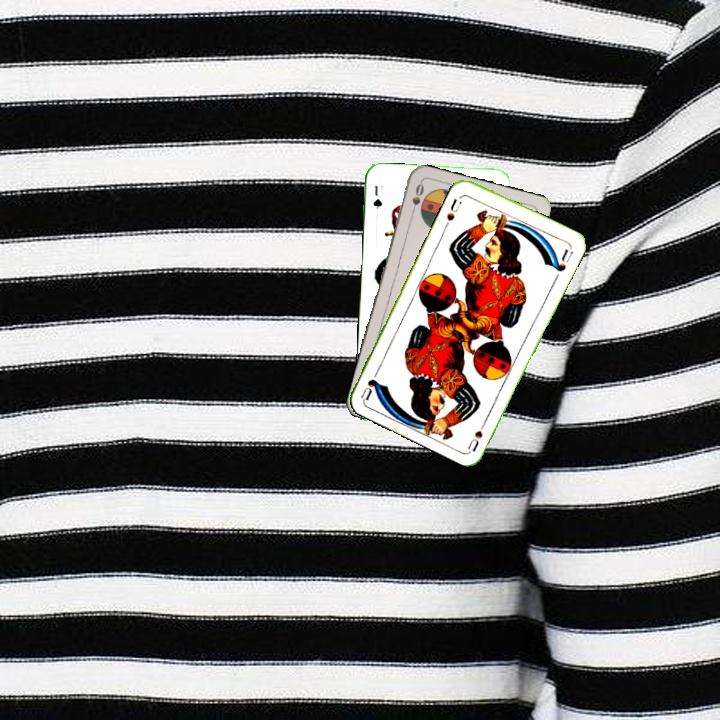GU: (369, 181, 384, 211)
SO: (407, 179, 427, 219)
SU: (464, 414, 490, 453), (442, 194, 464, 224)
